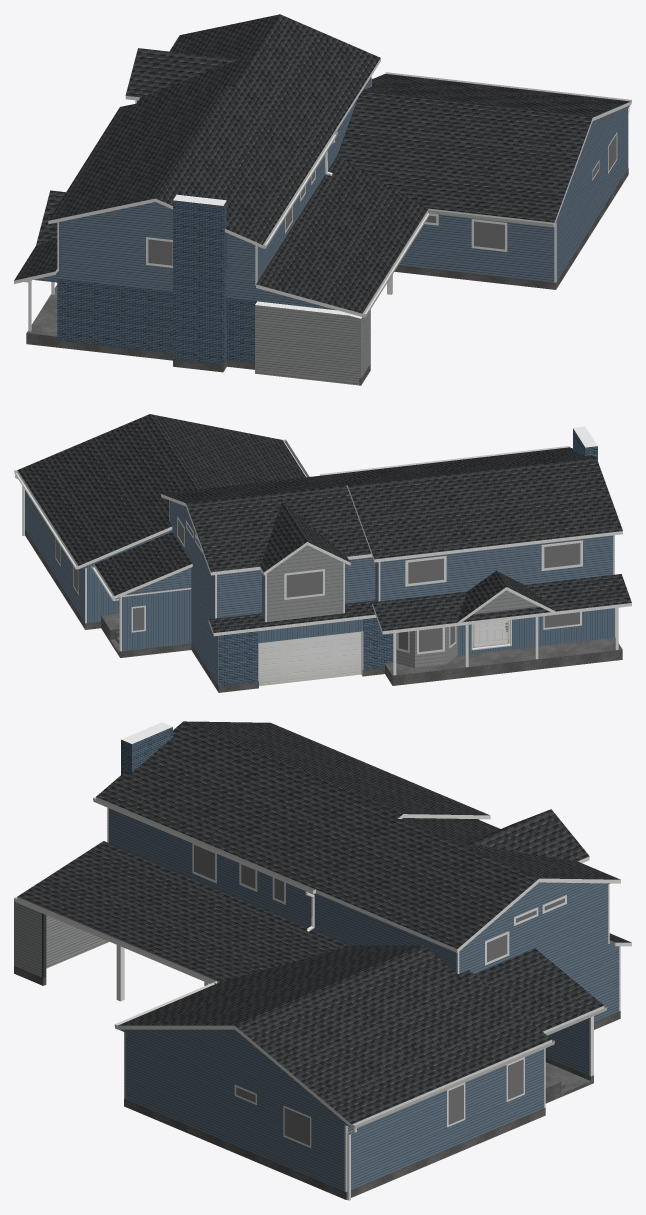
Rendered from House.obj.
3 renders of one model, top to bottom at view 1: azimuth 30°, elevation 25°; view 2: azimuth 150°, elevation 25°; view 3: azimuth 270°, elevation 25°, orthographic. The views are drawn at different scales.
Visible parts, largest first — view 1: Mesh71 Group9 Model, Mesh70 Group8 Model, Mesh2 Group1 Model, Mesh72 Group9 Model, Mesh32 Group5 Model, Mesh34 Group6 Model, Mesh25 Group5 Model, Mesh23 Group5 Model, Mesh5 Group2 Model, Mesh26 Group5 Model, Mesh22 Group5 Model, Mesh6 Group2 Model (+9 smaller); view 2: Mesh70 Group8 Model, Mesh71 Group9 Model, Mesh72 Group9 Model, Mesh28 Group5 Model, Mesh74 Group9 Model, Mesh5 Group2 Model, Mesh8 Group3 Model, Mesh21 Group5 Model, Mesh104 Group11 Model, Mesh159 Group17 Model, Mesh73 Group9 Model, Mesh156 Group17 Model (+27 smaller); view 3: Mesh71 Group9 Model, Mesh70 Group8 Model, Mesh72 Group9 Model, Mesh23 Group5 Model, Mesh21 Group5 Model, Mesh24 Group5 Model, Mesh22 Group5 Model, Mesh73 Group9 Model, Mesh6 Group2 Model, Mesh16 Group4 Model, Mesh33 Group6 Model, Mesh35 Group6 Model (+7 smaller).
Boxes of the visible parts, left/top/right/bottom form: Mesh71 Group9 Model: left=256, top=73, right=630, bottom=313; Mesh70 Group8 Model: left=48, top=84, right=334, bottom=244; Mesh2 Group1 Model: left=57, top=200, right=255, bottom=365; Mesh72 Group9 Model: left=125, top=14, right=380, bottom=130; Mesh32 Group5 Model: left=34, top=202, right=172, bottom=291; Mesh34 Group6 Model: left=255, top=305, right=359, bottom=385; Mesh25 Group5 Model: left=399, top=214, right=554, bottom=282; Mesh23 Group5 Model: left=555, top=105, right=629, bottom=281; Mesh5 Group2 Model: left=26, top=284, right=254, bottom=372; Mesh26 Group5 Model: left=227, top=233, right=336, bottom=310; Mesh22 Group5 Model: left=257, top=77, right=371, bottom=281; Mesh6 Group2 Model: left=394, top=168, right=628, bottom=289; Mesh70 Group8 Model: left=322, top=447, right=622, bottom=559; Mesh71 Group9 Model: left=17, top=414, right=305, bottom=565; Mesh72 Group9 Model: left=161, top=475, right=371, bottom=572; Mesh28 Group5 Model: left=380, top=535, right=613, bottom=601; Mesh74 Group9 Model: left=372, top=571, right=631, bottom=631; Mesh5 Group2 Model: left=362, top=637, right=622, bottom=685; Mesh8 Group3 Model: left=259, top=632, right=361, bottom=685; Mesh21 Group5 Model: left=124, top=500, right=218, bottom=684; Mesh104 Group11 Model: left=267, top=545, right=343, bottom=622; Mesh159 Group17 Model: left=122, top=589, right=191, bottom=651; Mesh73 Group9 Model: left=94, top=532, right=192, bottom=595; Mesh156 Group17 Model: left=457, top=608, right=614, bottom=655; Mesh71 Group9 Model: left=17, top=841, right=551, bottom=1124; Mesh70 Group8 Model: left=96, top=721, right=489, bottom=889; Mesh72 Group9 Model: left=316, top=809, right=620, bottom=948; Mesh23 Group5 Model: left=119, top=1029, right=350, bottom=1191; Mesh21 Group5 Model: left=459, top=882, right=619, bottom=1021; Mesh24 Group5 Model: left=347, top=1049, right=544, bottom=1189; Mesh22 Group5 Model: left=109, top=808, right=456, bottom=972; Mesh73 Group9 Model: left=474, top=948, right=603, bottom=1031; Mesh6 Group2 Model: left=124, top=1011, right=620, bottom=1199; Mesh16 Group4 Model: left=17, top=897, right=551, bottom=1127; Mesh33 Group6 Model: left=46, top=915, right=109, bottom=968; Mesh35 Group6 Model: left=15, top=902, right=41, bottom=977.
Size of the model in its own units: 1221 by 302 by 912.
19 materials, 16 textured.
